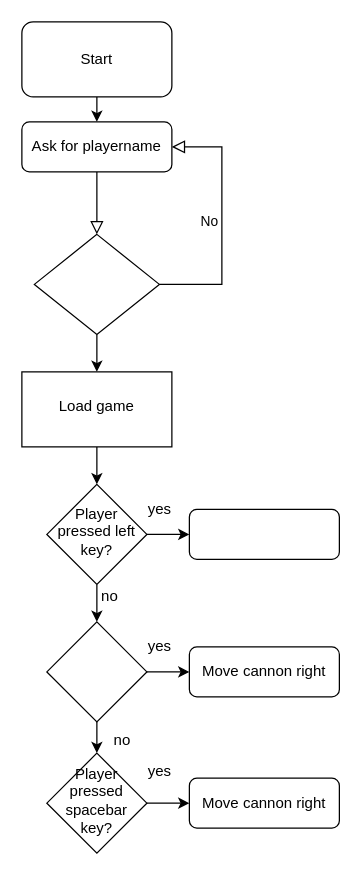
The diagram is 361 pixels wide and 875 high, and some of its shapes have lost their labels. The shapes that lost their labels are listed below. From the top down, each one's centre as x and y in pixels, then its label:
At point (96, 283): "Name entered?".
At point (263, 533): "Move cannon left".
At point (96, 671): "Player pressed right key?".
